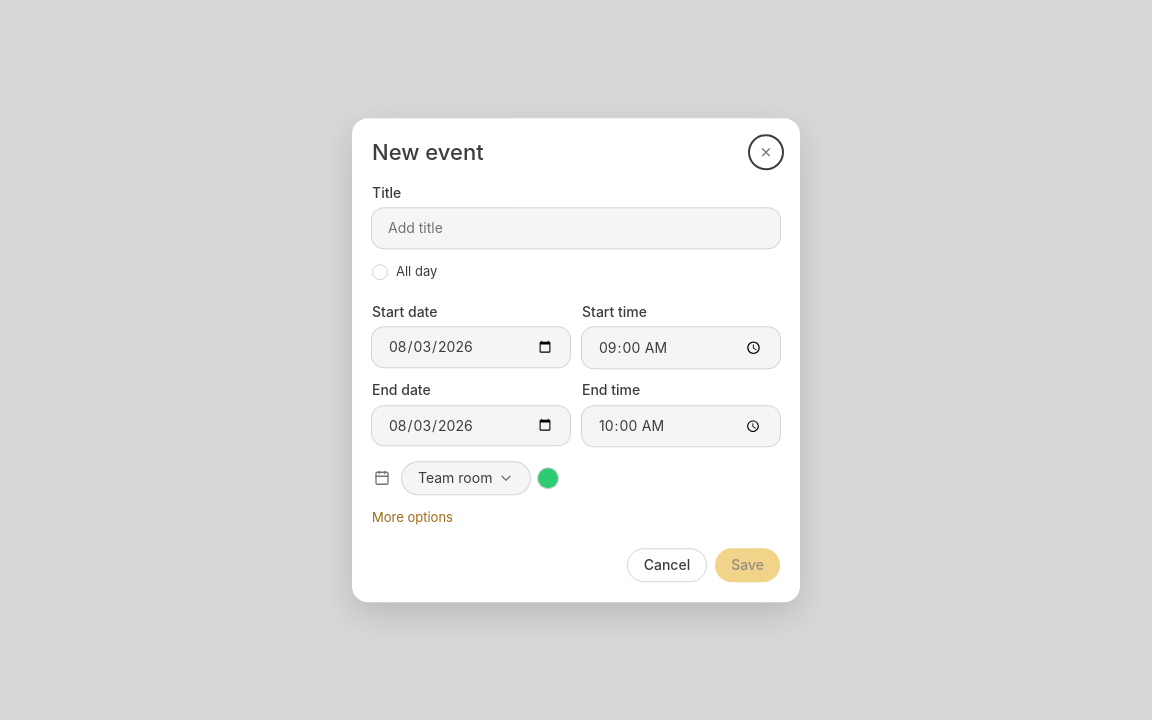
Test: EventModal — the Calendar picker narrows to the Active Calendar Set (#305) › offers only the Active Calendar Set's own members, defaulting the selection inside it
The image size is (1152, 720).
Click the dropdown named "Calendar". click: (466, 478)
box: [402,463,530,494]
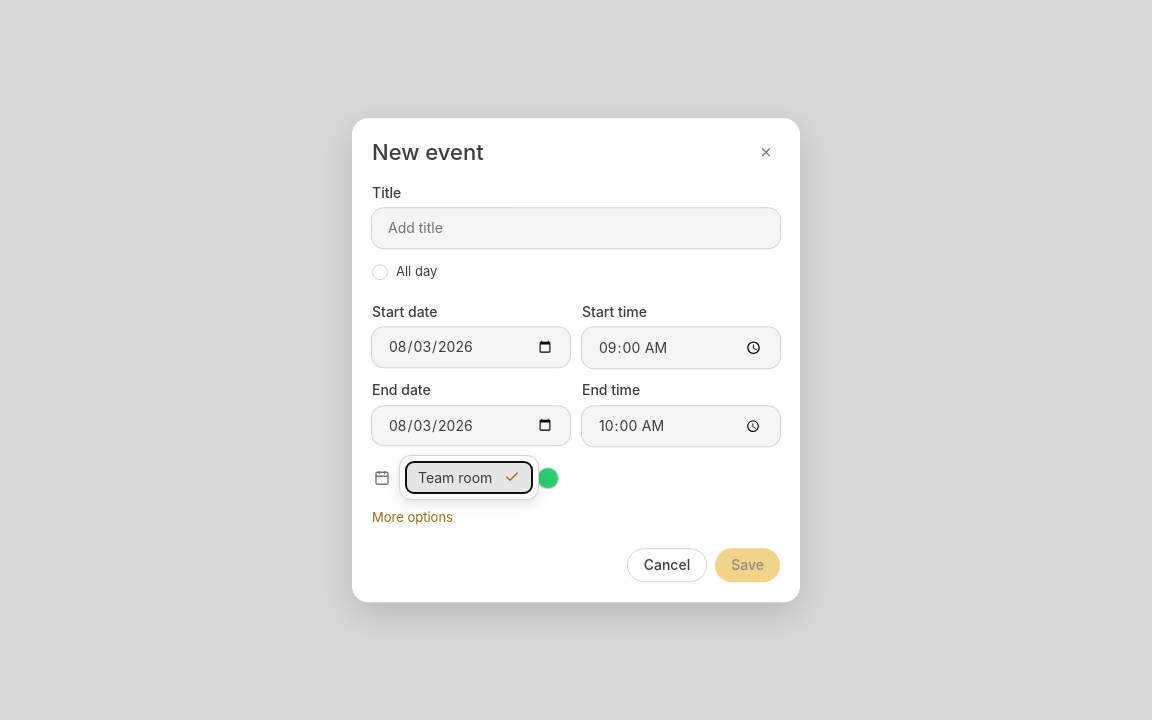
Expected: the option "Team room" is shown, [406,462,532,493]
